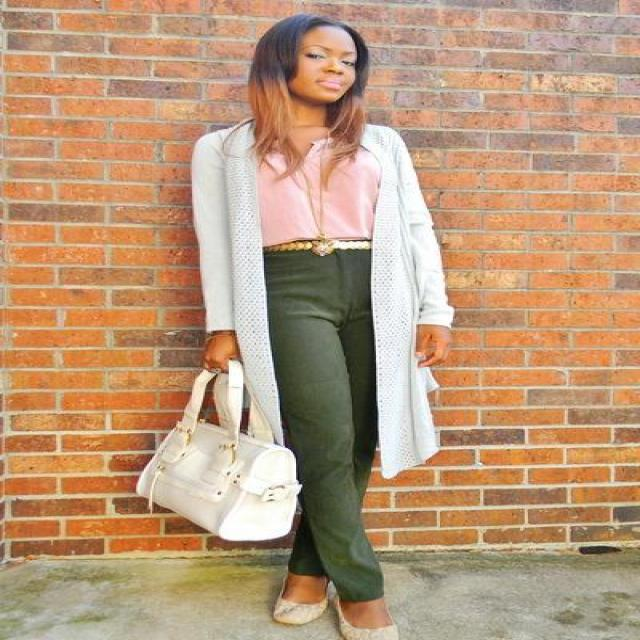bag: (107, 369, 301, 540)
jacket: (192, 124, 453, 472)
pants: (263, 247, 402, 600)
shirt: (245, 141, 381, 242)
shoe: (274, 597, 396, 639)
